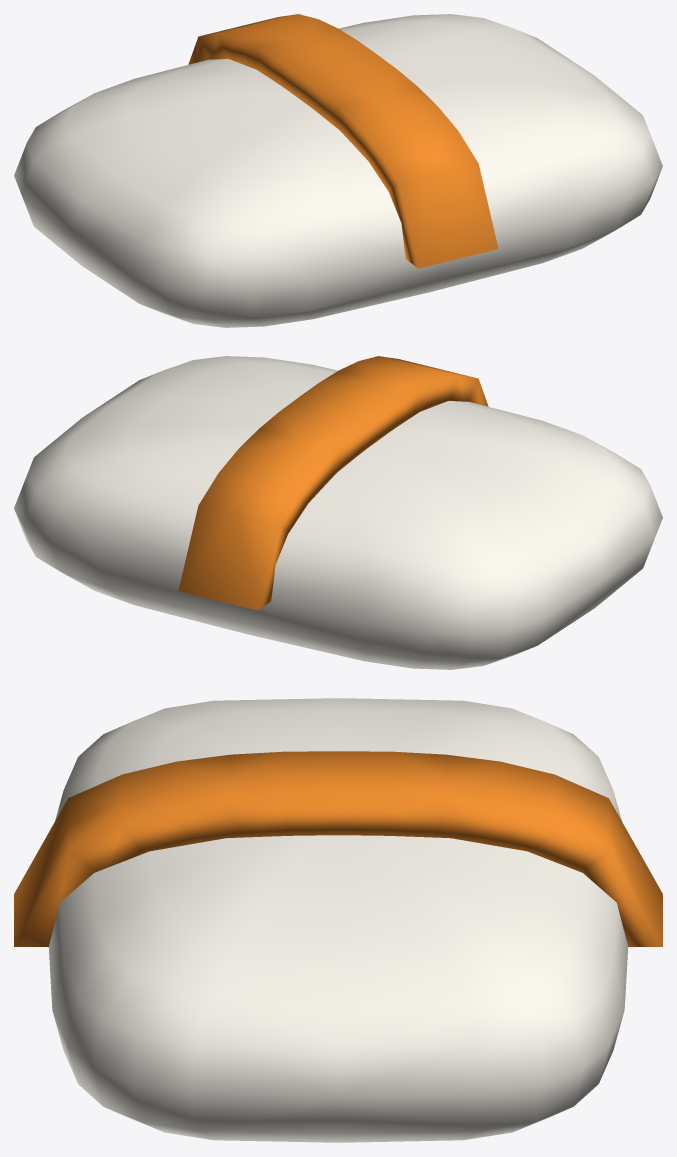
File: Prop_FoodPack.fbx
3 views of the same model, one above another, from view 1: azimuth 30°, elevation 25°; view 2: azimuth 150°, elevation 25°; view 3: azimuth 270°, elevation 25° (orthographic). The views are drawn at different scales.
Visible parts, largest first — view 1: Prop_FoodPack.Bag, Prop_FoodPack.Band; view 2: Prop_FoodPack.Bag, Prop_FoodPack.Band; view 3: Prop_FoodPack.Bag, Prop_FoodPack.Band.
Boxes of the visible parts, <box> form: Prop_FoodPack.Bag: <box>14,14,662,327</box>; Prop_FoodPack.Band: <box>188,14,498,268</box>; Prop_FoodPack.Bag: <box>14,356,662,669</box>; Prop_FoodPack.Band: <box>178,356,488,610</box>; Prop_FoodPack.Bag: <box>48,698,628,1142</box>; Prop_FoodPack.Band: <box>14,751,662,946</box>.
Size of the model in its own units: 0.2 by 0.068 by 0.156.
1 material, 1 textured.
